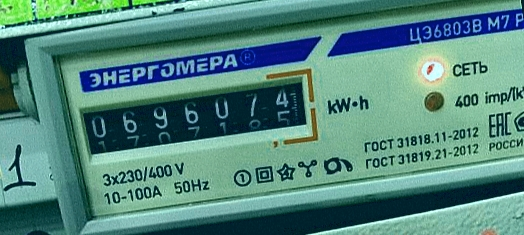0: (85, 112, 107, 140), (211, 93, 230, 121)
4: (271, 84, 290, 110)
5: (274, 108, 291, 128)
6: (118, 106, 140, 135), (179, 99, 199, 125)
7: (240, 90, 261, 118)
9: (148, 103, 170, 130)
screen: (64, 62, 325, 176)
